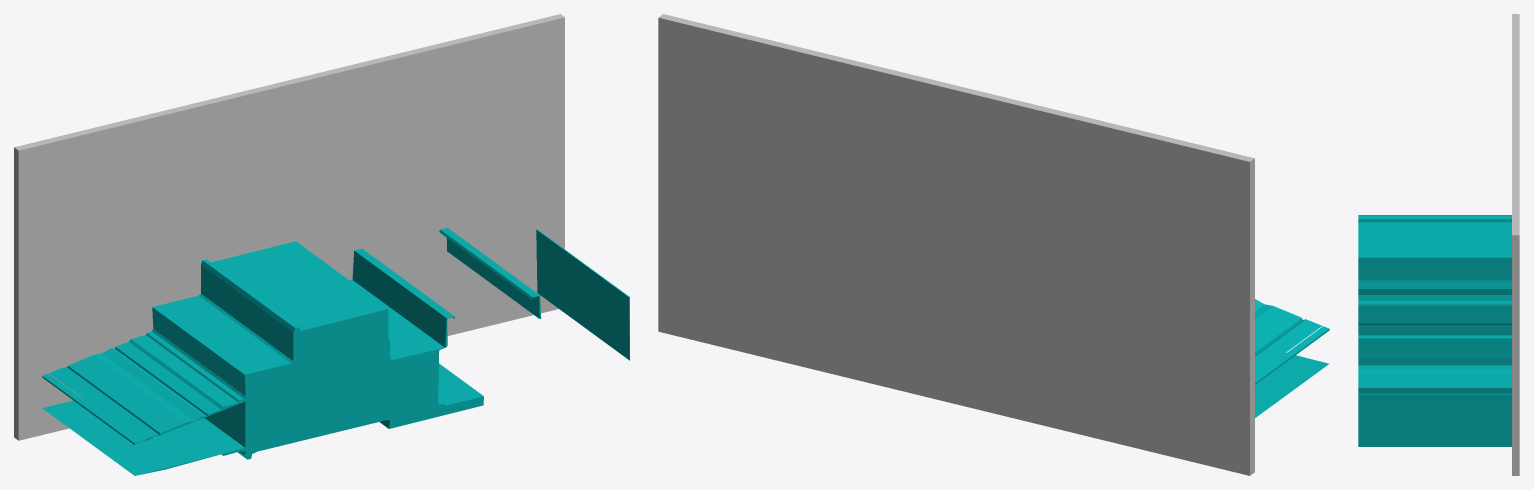
3 renders of one model, left to right at view 1: azimuth 30°, elevation 25°; view 2: azimuth 150°, elevation 25°; view 3: azimuth 270°, elevation 25°, orthographic. The views are drawn at different scales.
Visible parts, largest first — view 1: world; view 2: world; view 3: world.
Part boxes in pixels (x1=…): world: x1=14, y1=14, x2=629, y2=475; world: x1=658, y1=14, x2=1329, y2=475; world: x1=1358, y1=14, x2=1519, y2=475.
Bounding box in the file's own units: 10.23 × 5.19 × 3.15.
